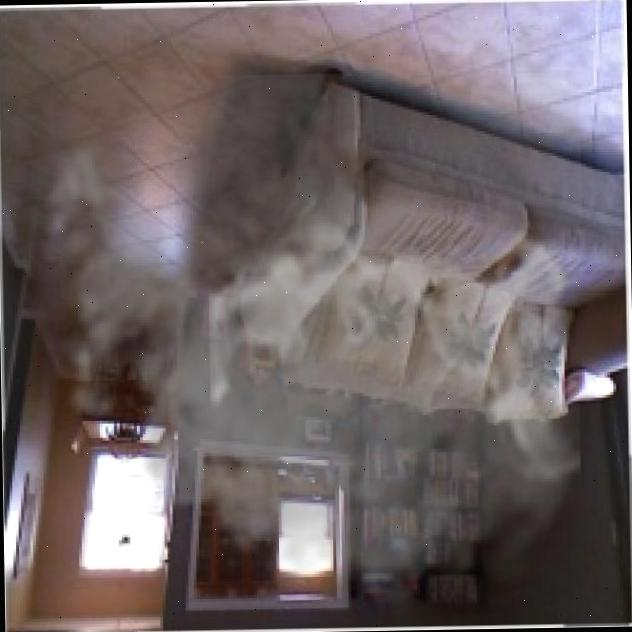smoke: (25, 69, 589, 632)
